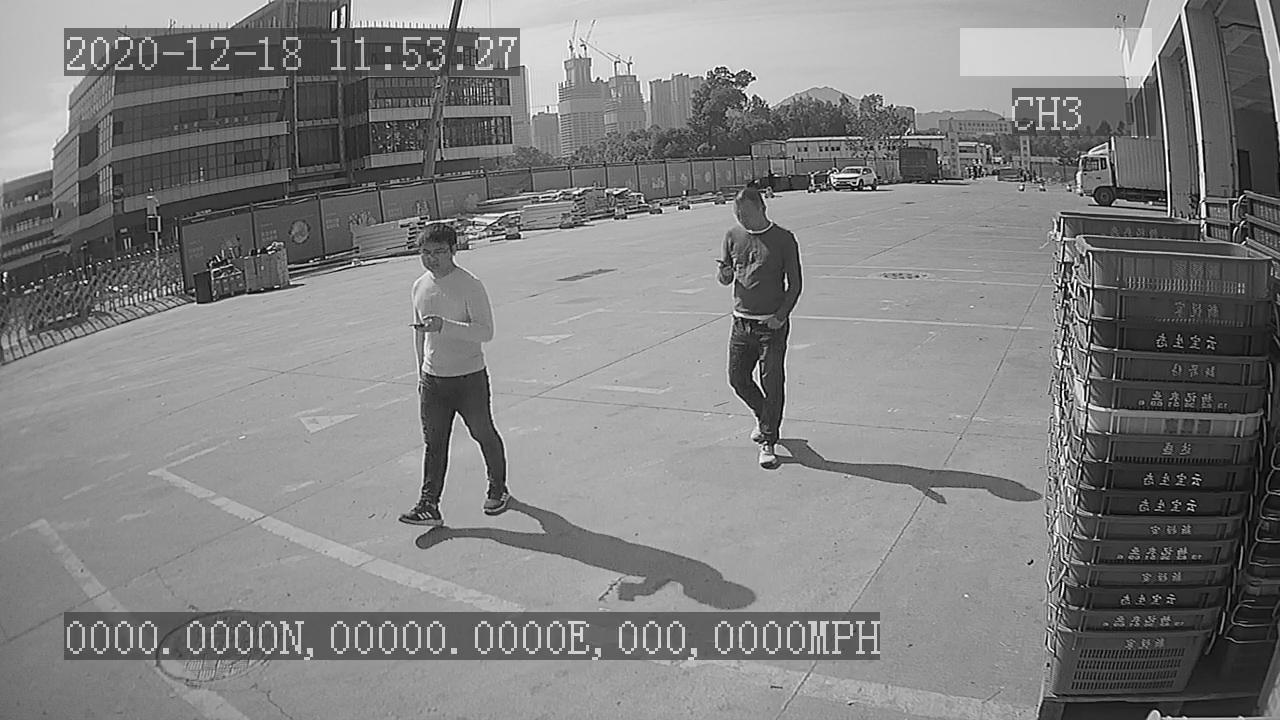person: (384, 215, 517, 527), (706, 179, 811, 472)
